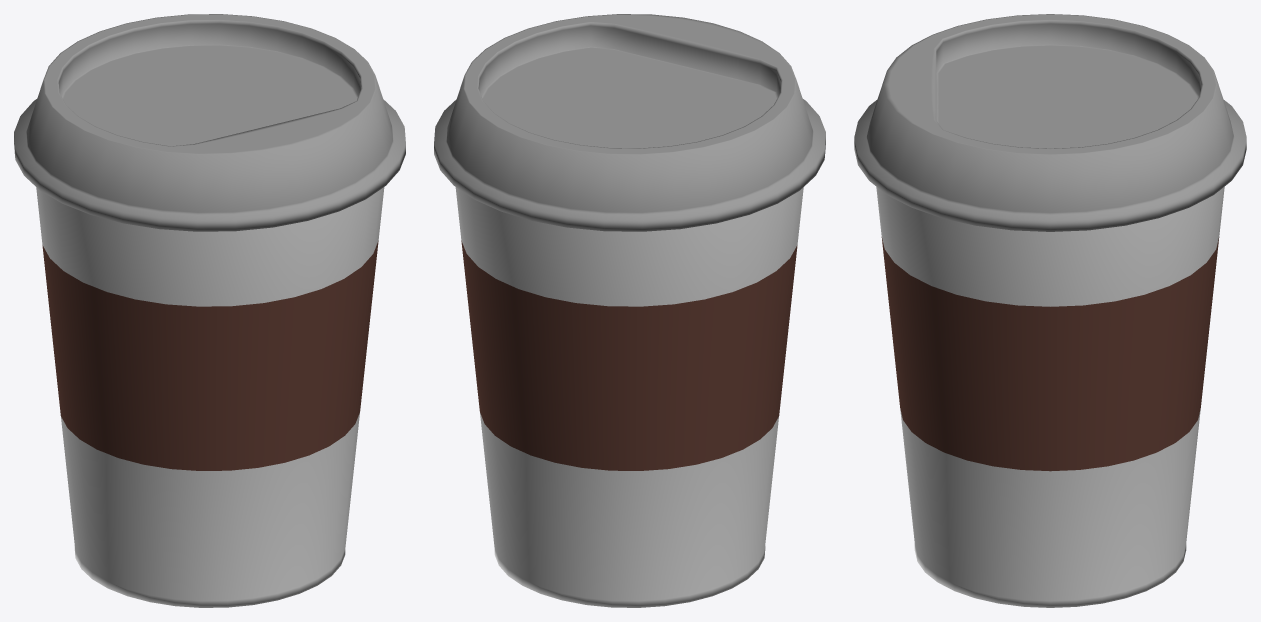
Rendered from CoffeeCup.fbx.
3 views of the same model, side by side, from view 1: azimuth 30°, elevation 25°; view 2: azimuth 150°, elevation 25°; view 3: azimuth 270°, elevation 25° (orthographic).
Parts seen in each view (by area): view 1: CoffeeCup; view 2: CoffeeCup; view 3: CoffeeCup.
Boxes of the visible parts, left/top/right/bottom form: CoffeeCup: left=14, top=14, right=405, bottom=607; CoffeeCup: left=434, top=14, right=825, bottom=607; CoffeeCup: left=854, top=14, right=1246, bottom=607.
Size of the model in its own units: 221 by 290 by 221.
